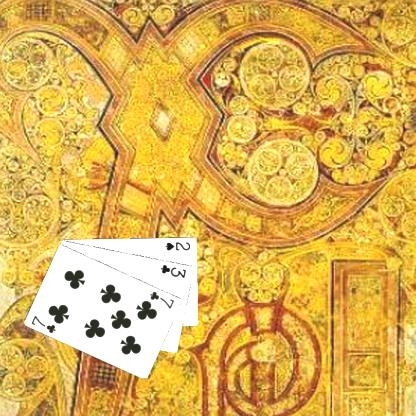2S: (162, 239, 192, 251)
3C: (158, 262, 188, 279)
7C: (28, 313, 58, 334), (148, 288, 176, 310)
